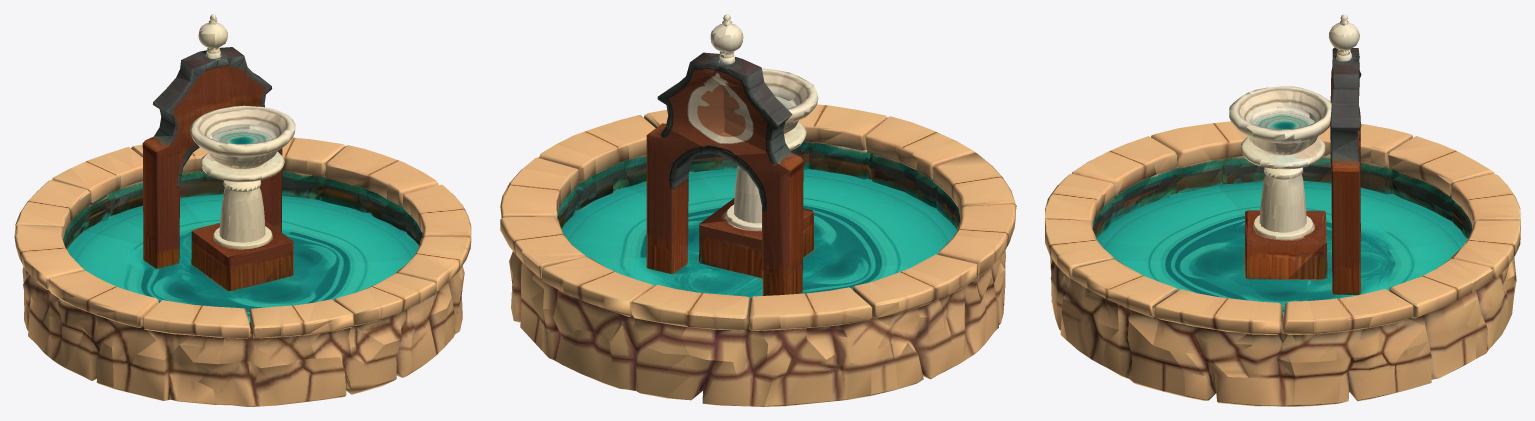
File: fountain.glb
The picture shows the model from 3 angles, left to right: view 1: azimuth 30°, elevation 25°; view 2: azimuth 150°, elevation 25°; view 3: azimuth 270°, elevation 25°; orthographic projection. The views are drawn at different scales.
Size of the model in its own units: 3 by 2.05 by 3.
Materials: 1 (1 with a texture image).
